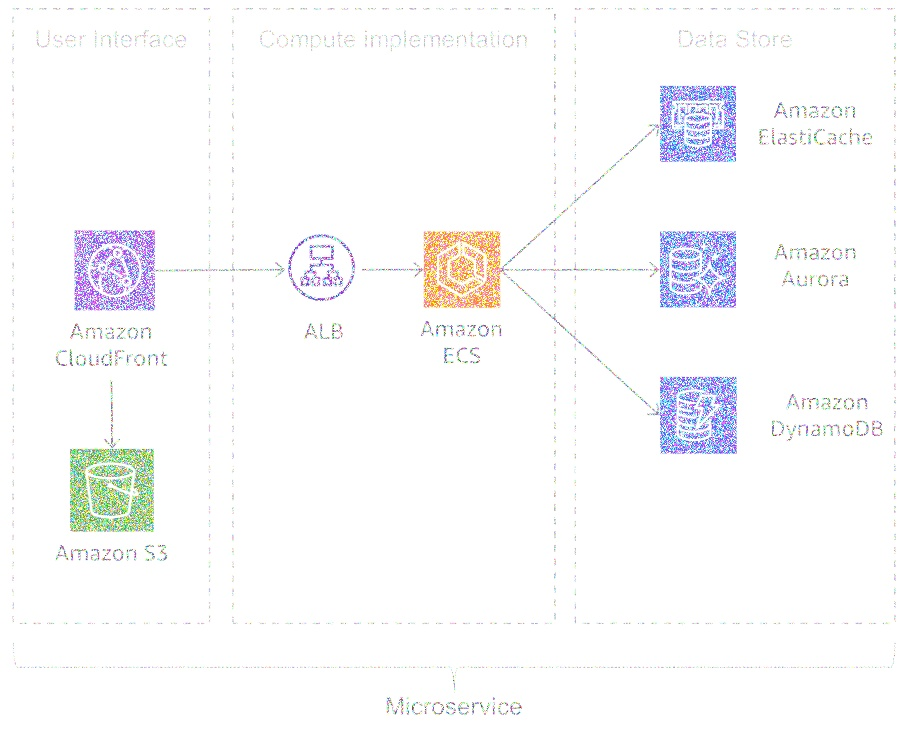ALB: (285, 229, 363, 302)
Aurora: (653, 227, 744, 312)
Cloudfront: (69, 225, 160, 314)
Dynamo DB: (659, 369, 739, 458)
ElastiCache: (653, 79, 744, 169)
Elastic Container Service: (421, 225, 502, 313)
S3: (63, 443, 162, 540)
